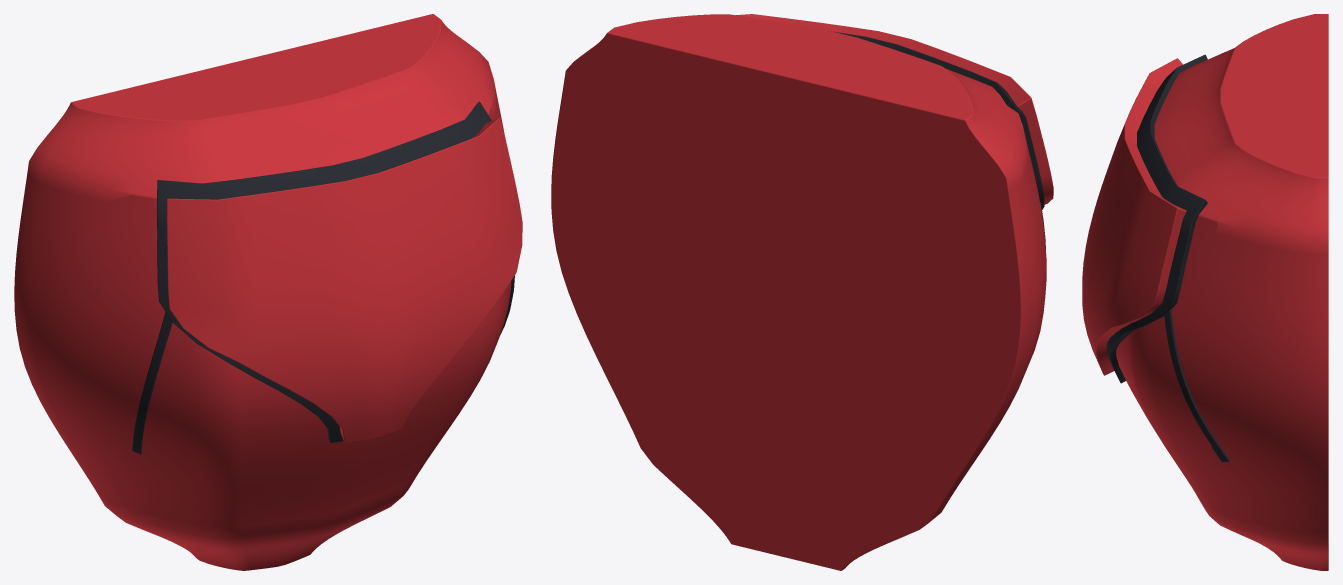
File: UpperArmFront_Set01_Ironclad.fbx
3 views of the same model, side by side, from view 1: azimuth 30°, elevation 25°; view 2: azimuth 150°, elevation 25°; view 3: azimuth 270°, elevation 25° (orthographic). The views are drawn at different scales.
Parts seen in each view (by area): view 1: UpperArmFront_Set01_Ironclad; view 2: UpperArmFront_Set01_Ironclad; view 3: UpperArmFront_Set01_Ironclad.
Part boxes in pixels (left/top/right/bottom): UpperArmFront_Set01_Ironclad: left=14, top=14, right=522, bottom=570; UpperArmFront_Set01_Ironclad: left=551, top=14, right=1053, bottom=570; UpperArmFront_Set01_Ironclad: left=1082, top=14, right=1328, bottom=570.
Size of the model in its own units: 0.3479 by 0.34 by 0.1686.
